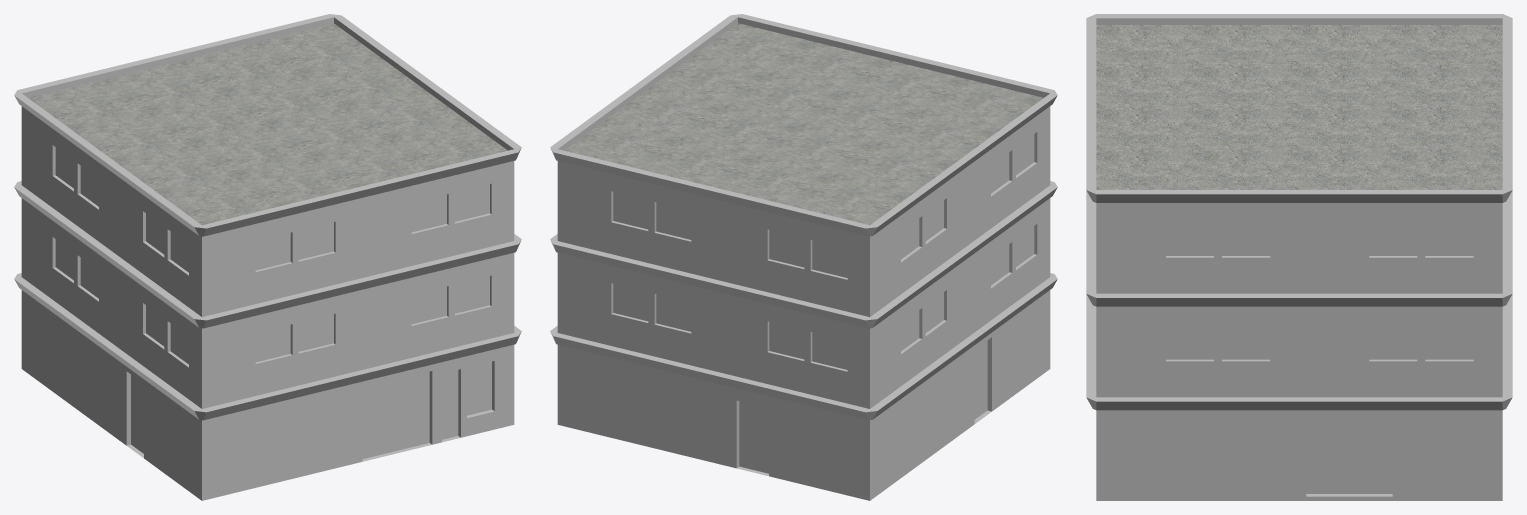
The model's file is RV_Building_Type_B_03.fbx.
3 renders of one model, left to right at view 1: azimuth 30°, elevation 25°; view 2: azimuth 150°, elevation 25°; view 3: azimuth 270°, elevation 25°, orthographic. The views are drawn at different scales.
Visible parts, largest first — view 1: RV_Building_Type_B_03; view 2: RV_Building_Type_B_03; view 3: RV_Building_Type_B_03.
Part boxes in pixels (x1=…): RV_Building_Type_B_03: x1=14, y1=14, x2=521, y2=500; RV_Building_Type_B_03: x1=550, y1=14, x2=1057, y2=500; RV_Building_Type_B_03: x1=1086, y1=14, x2=1512, y2=500.
Size of the model in its own units: 1074 by 864 by 1074.
